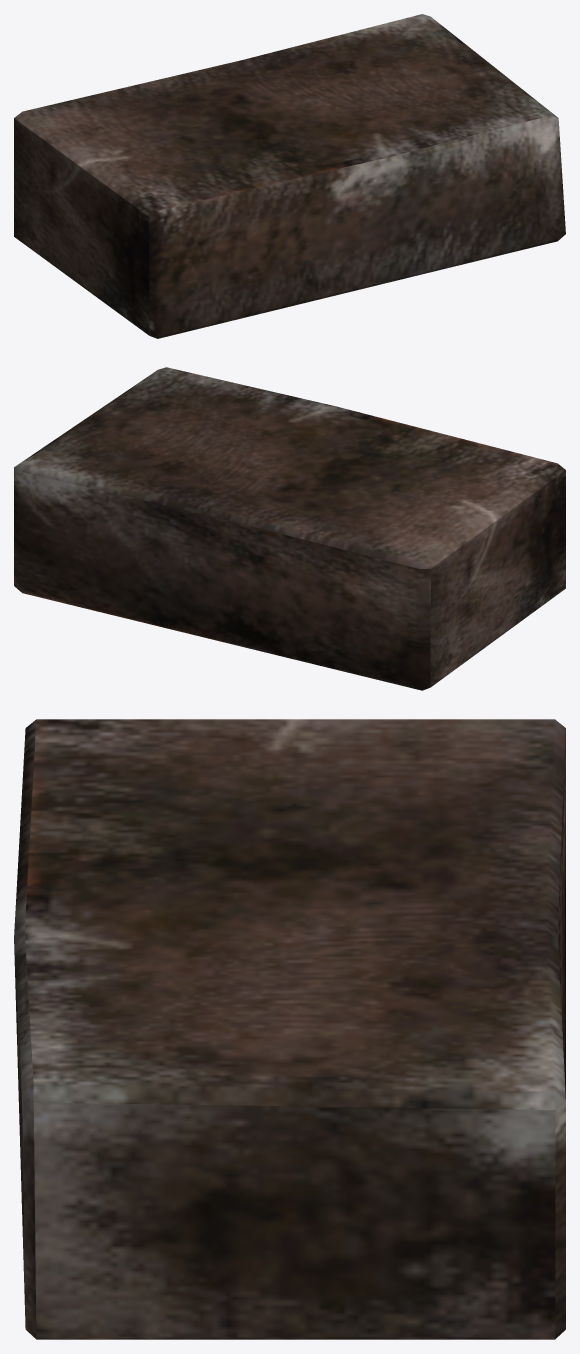
File: brick.dae
The picture shows the model from 3 angles, top to bottom: view 1: azimuth 30°, elevation 25°; view 2: azimuth 150°, elevation 25°; view 3: azimuth 270°, elevation 25°; orthographic projection. The views are drawn at different scales.
Visible parts, largest first — view 1: pCube1; view 2: pCube1; view 3: pCube1.
Part boxes in pixels (<box>): pCube1: <box>14,14,565,338</box>; pCube1: <box>14,367,565,690</box>; pCube1: <box>14,719,565,1339</box>.
Size of the model in its own units: 0.2568 by 0.0756 by 0.1537.
